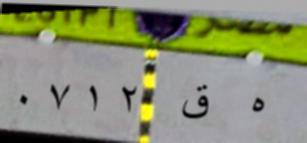0: (13, 87, 34, 112)
1: (83, 80, 103, 117)
2: (117, 82, 139, 115)
7: (47, 77, 72, 114)
haa: (243, 91, 268, 121)
qaaf: (176, 78, 213, 129)
